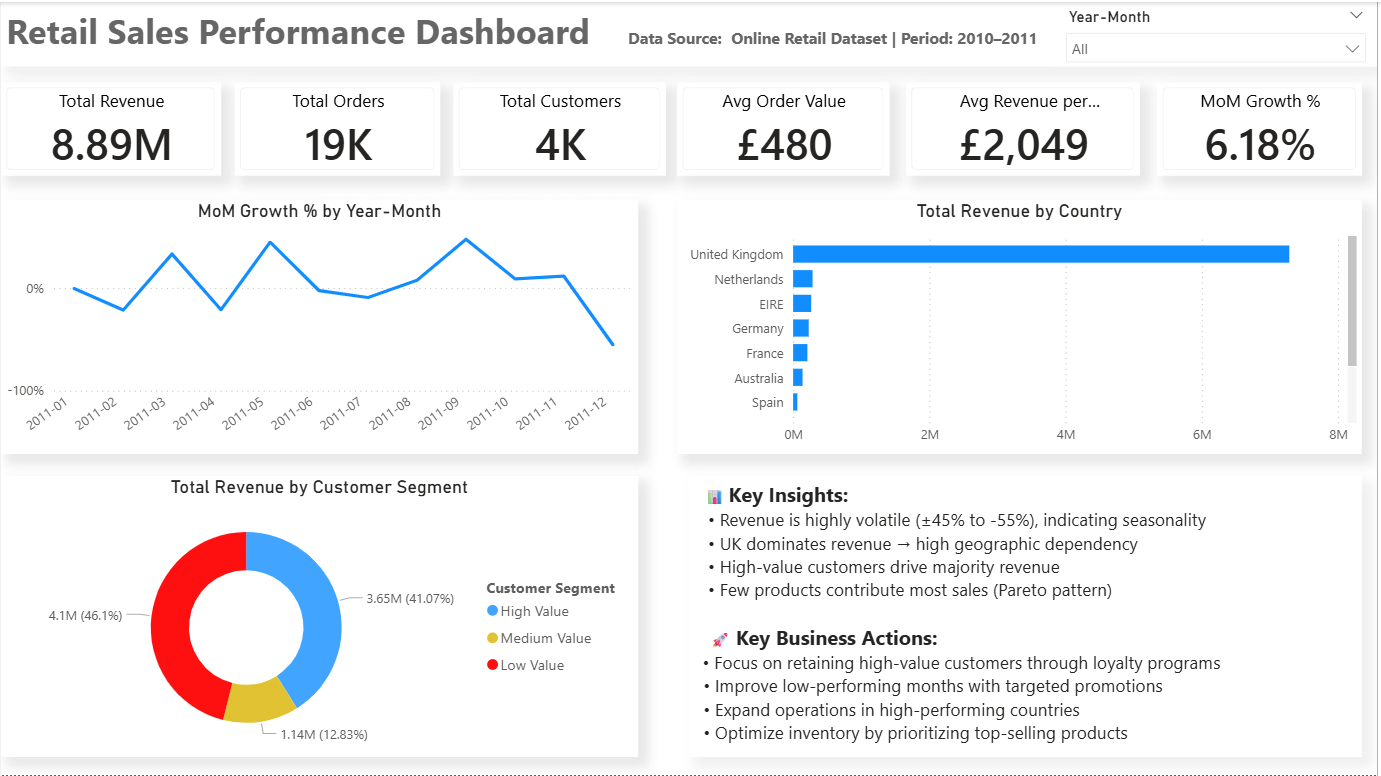

This screenshot's page, from the dashboard's own definition file:
{"tool":"powerbi","page":{"name":"Executive Overview","canvas":[2200,1400],"ordinal":0},"visuals":[{"type":"textbox","box":[0,0,2199.2,89.2],"z":0},{"type":"image","box":[14.8,8.5,118.7,74.2],"z":1000},{"type":"shape","box":[15.3,98.5,420.4,1280.9],"z":2000},{"type":"textbox","box":[41.6,602.1,372.2,83.2],"z":3000},{"type":"textbox","box":[39.4,766.3,409.4,94.1],"z":4000},{"type":"textbox","box":[39.4,939.3,356.9,94.1],"z":5000},{"type":"textbox","box":[32.8,1121,372.2,96.3],"z":6000},{"type":"textbox","box":[0,216.8,437.9,142.3],"z":7000},{"type":"cardVisual","fields":{"Data":["_Measures.Net Sales Revenue","_Measures.Total Orders","_Measures.Average Order Value","_Measures.Total Units Sold","_Measures.Active Customers"]},"box":[451,98.5,1716.6,190.5],"z":8000},{"type":"textbox","box":[667.8,137.9,63.5,56.9],"z":9000},{"type":"textbox","box":[976.5,133.6,56.9,54.7],"z":10000},{"type":"textbox","box":[1386,124.8,46,54.7],"z":11000},{"type":"textbox","box":[1714.4,127,61.3,61.3],"z":12000},{"type":"textbox","box":[2053.7,133.6,56.9,61.3],"z":13000},{"type":"shape","box":[451.5,326.5,1062.1,493.9],"z":14000},{"type":"lineClusteredColumnComboChart","title":"Monthly Revenue And Orders","fields":{"Category":["Dim_Date.Month Year"],"Y":["_Measures.Net Sales Revenue"],"Y2":["_Measures.Total Orders"]},"box":[477,339.2,1026,481.2],"z":15000},{"type":"shape","box":[1532.7,326.5,636,493.9],"z":16000},{"type":"clusteredBarChart","title":"International Revenue By Country","fields":{"Y":["_Measures.Net Sales Revenue"],"Category":["vw_Valid_Sales_Only.Country"]},"box":[1565.5,339.4,602.1,481.7],"z":17000},{"type":"shape","box":[451.5,839.5,1062.1,540.6],"z":18000},{"type":"lineChart","title":"Average Order Value Trend","fields":{"Y":["_Measures.Average Order Value"],"Category":["Dim_Date.Year","Dim_Date.Quarter","Dim_Date.Month Year","vw_Valid_Sales_Only.InvoiceDate"]},"box":[470.7,860.5,1011.5,479.5],"z":19000},{"type":"shape","box":[1532.7,839.5,636,540.6],"z":20000},{"type":"pivotTable","title":"Quarterly Revenue And Orders","fields":{"Rows":["Dim_Date.Year","Dim_Date.Quarter"],"Values":["_Measures.Net Sales Revenue (M)","_Measures.Total Orders"]},"box":[1624.6,860.5,486.1,494.8],"z":21000},{"type":"shape","box":[1657.7,0,237.4,84.8],"z":22000},{"type":"slicer","fields":{"Values":["Dim_Date.Year"]},"box":[1668.3,8.5,226.8,65.7],"z":23000},{"type":"shape","box":[1912.1,0,237.4,82.7],"z":24000},{"type":"slicer","fields":{"Values":["Dim_Country.Country"]},"box":[1929.1,8.5,203.5,65.7],"z":25000},{"type":"textbox","box":[70.1,411.6,260.6,113.9],"z":26000}]}

Visuals, with their boxes on the page's 2200x1400 design canvas (x1, y1, x2, y2). These are canvas units, not pixel positions in the 1381x776 screenshot, which may show the page scaled, cropped or inside an application window:
textbox: <region>0, 0, 2199, 89</region>
image: <region>15, 8, 134, 83</region>
shape: <region>15, 98, 436, 1379</region>
textbox: <region>42, 602, 414, 685</region>
textbox: <region>39, 766, 449, 860</region>
textbox: <region>39, 939, 396, 1033</region>
textbox: <region>33, 1121, 405, 1217</region>
textbox: <region>0, 217, 438, 359</region>
cardVisual - _Measures.Net Sales Revenue x _Measures.Total Orders: <region>451, 98, 2168, 289</region>
textbox: <region>668, 138, 731, 195</region>
textbox: <region>976, 134, 1033, 188</region>
textbox: <region>1386, 125, 1432, 180</region>
textbox: <region>1714, 127, 1776, 188</region>
textbox: <region>2054, 134, 2111, 195</region>
shape: <region>452, 326, 1514, 820</region>
"Monthly Revenue And Orders" lineClusteredColumnComboChart: <region>477, 339, 1503, 820</region>
shape: <region>1533, 326, 2169, 820</region>
"International Revenue By Country" clusteredBarChart: <region>1566, 339, 2168, 821</region>
shape: <region>452, 840, 1514, 1380</region>
"Average Order Value Trend" lineChart: <region>471, 860, 1482, 1340</region>
shape: <region>1533, 840, 2169, 1380</region>
"Quarterly Revenue And Orders" pivotTable: <region>1625, 860, 2111, 1355</region>
shape: <region>1658, 0, 1895, 85</region>
slicer - Dim_Date.Year: <region>1668, 8, 1895, 74</region>
shape: <region>1912, 0, 2150, 83</region>
slicer - Dim_Country.Country: <region>1929, 8, 2133, 74</region>
textbox: <region>70, 412, 331, 526</region>
